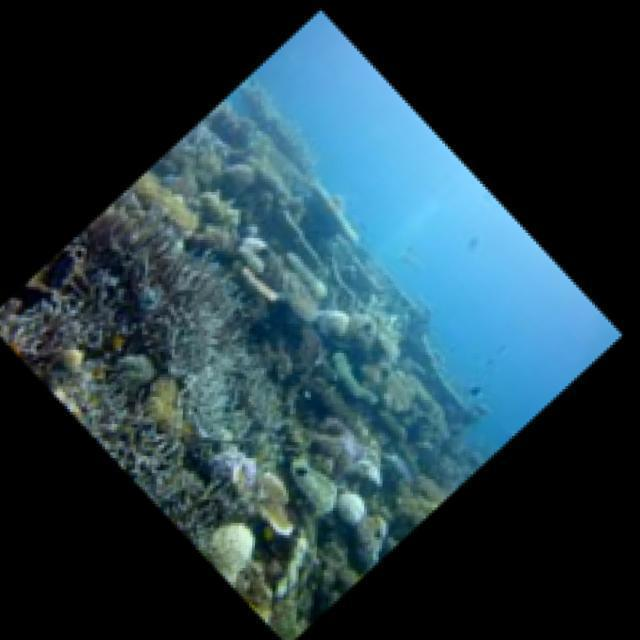Dead Coral: (122, 219, 241, 403), (113, 408, 255, 553), (0, 279, 124, 384)
